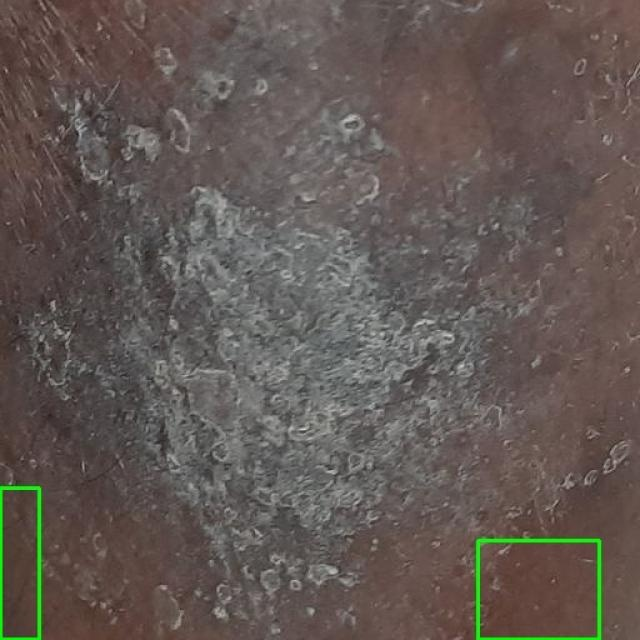Tinea Corporis: (479, 540, 600, 639), (0, 488, 40, 639)
